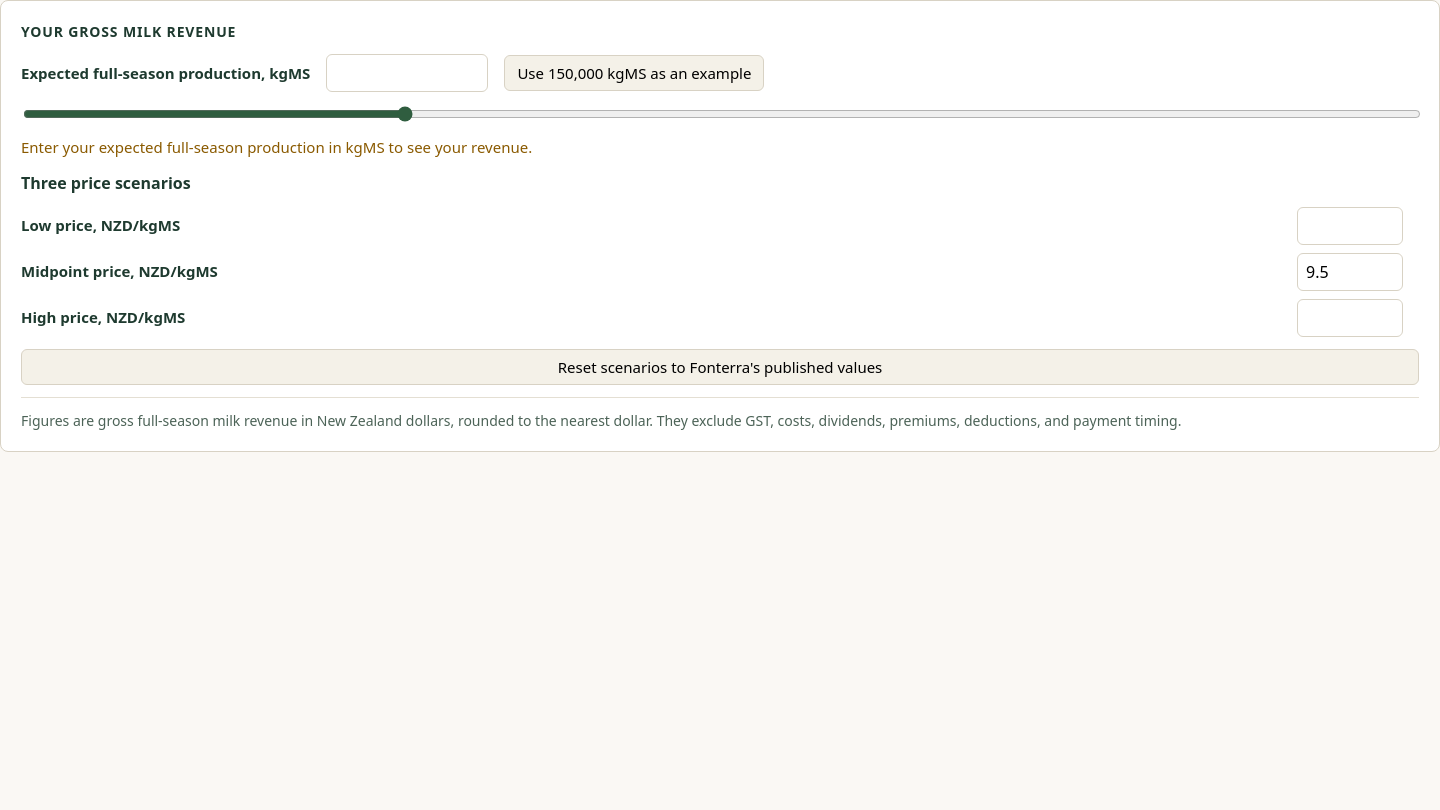
Scenario: stat tiles › renders all four tiles when no range is published
The width and height of the screenshot is (1440, 810).
Type "150000" into the field labelled "Expected full-season production, kgMS". click: [407, 73]
box: [326, 54, 488, 92]
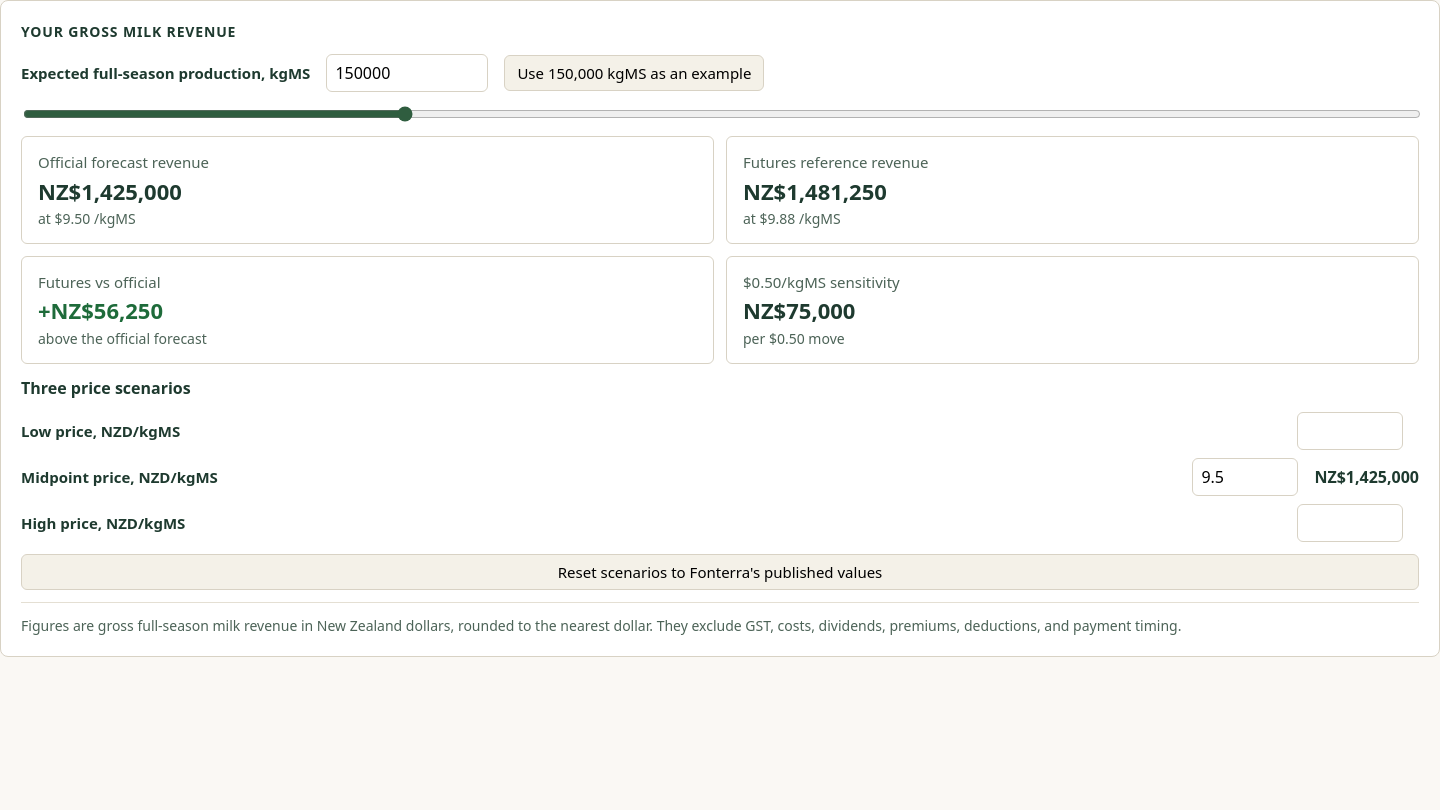
expect the text "Futures reference revenue" is shown: met, box [743, 152, 928, 172]
expect the text "Futures vs official" is shown: met, box [38, 272, 160, 292]
